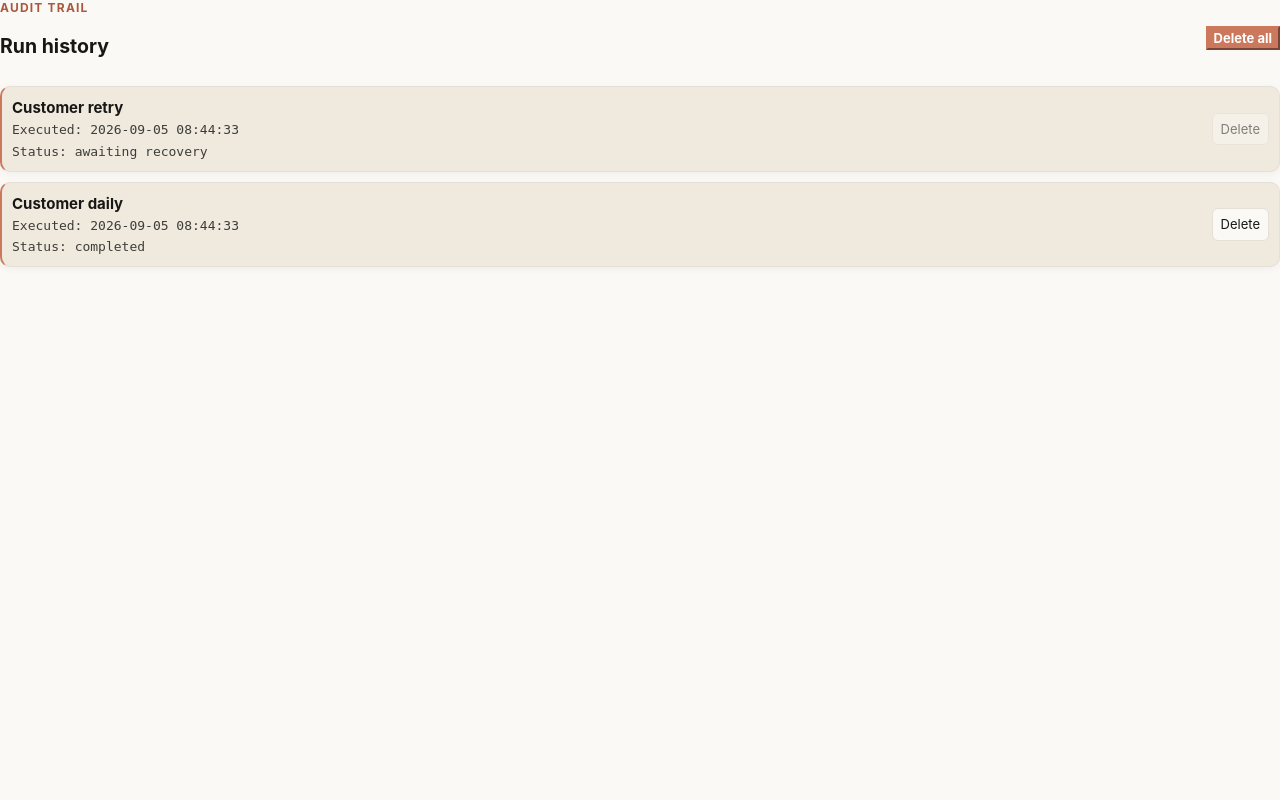
Scenario: deletes a completed run after confirmation
Click the button with aria-label "Delete Customer daily" at coordinates (1240, 224), box x1=1212 y1=208 x2=1269 y2=241
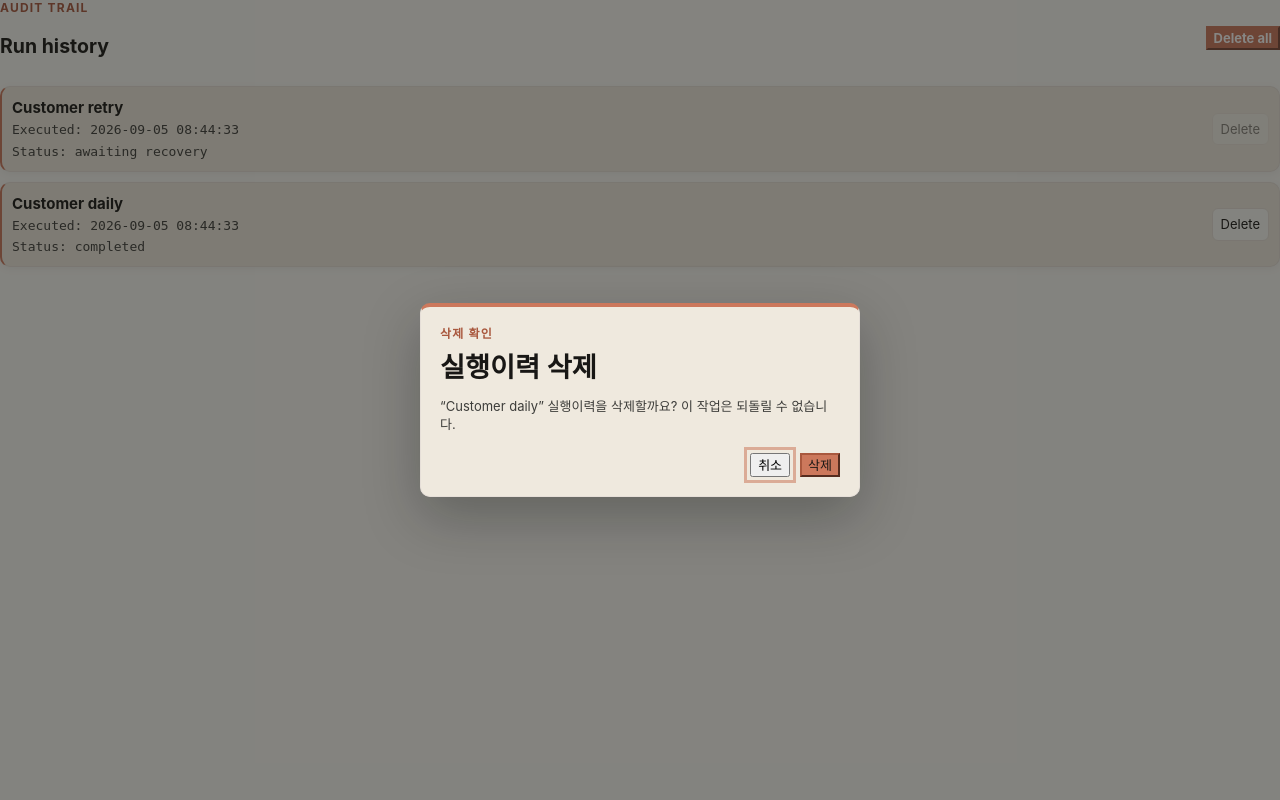
Click the button "삭제" at coordinates (820, 465), box x1=800 y1=452 x2=840 y2=477
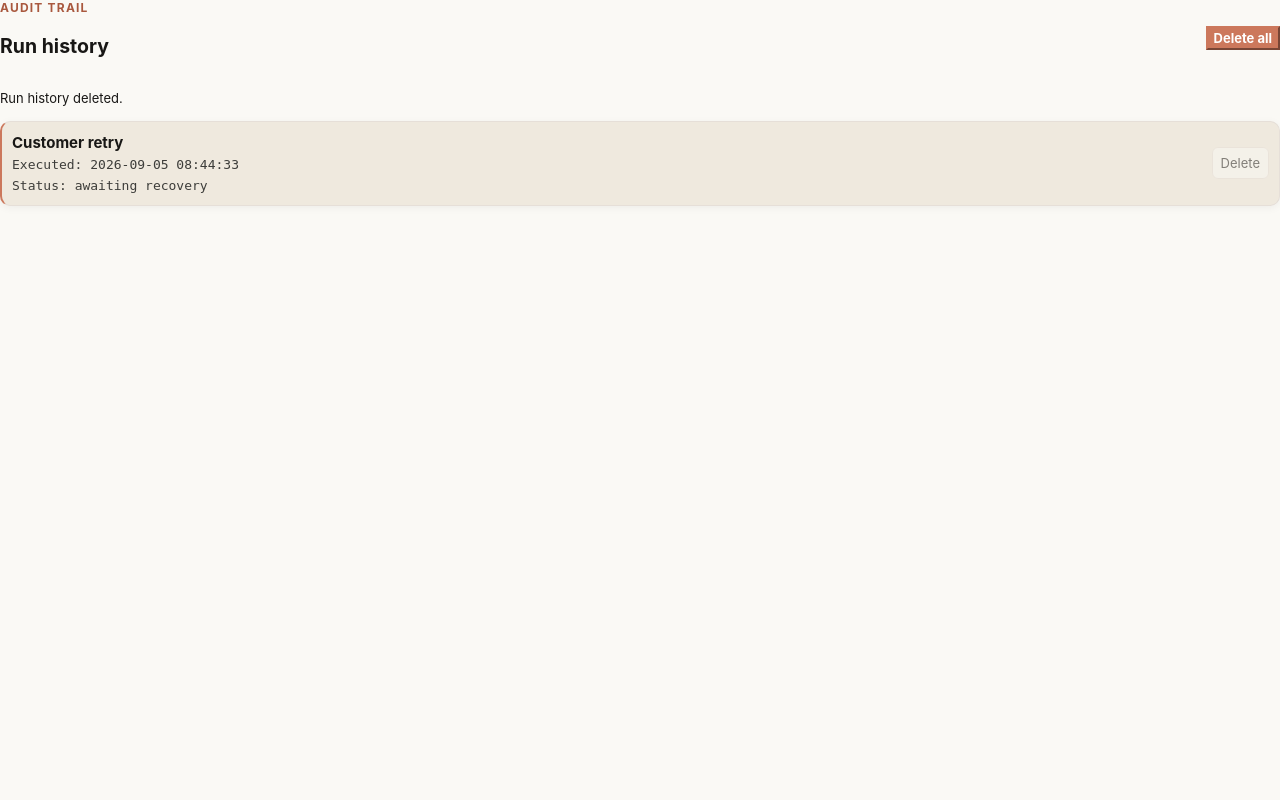
Expected: the message reads "Run history deleted.", x1=0 y1=90 x2=123 y2=106
Expected: the button "Customer daily" is gone
